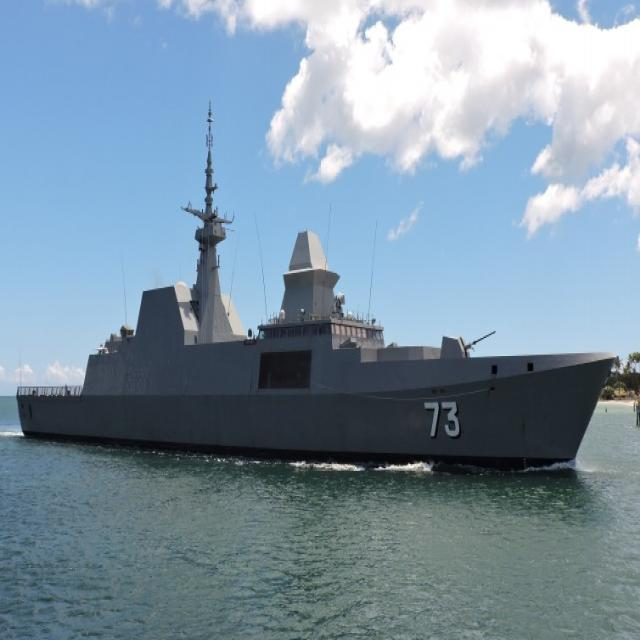Fragata: (3, 112, 622, 480)
